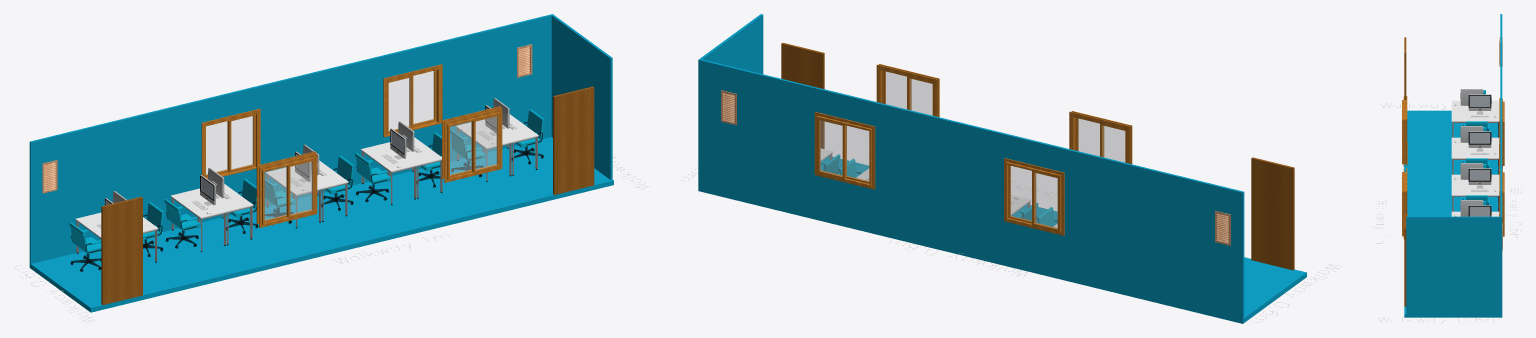
The model's file is Office Container-12m or 40ft__rvt2019.gltf.
3 views of the same model, side by side, from view 1: azimuth 30°, elevation 25°; view 2: azimuth 150°, elevation 25°; view 3: azimuth 270°, elevation 25° (orthographic). The views are drawn at different scales.
Parts seen in each view (by area): view 1: 3ebea0bb-71f9-428b-8b73-015f9e5ceb03-00050d73, 3ebea0bb-71f9-428b-8b73-015f9e5ceb03-00050d2e, 3ebea0bb-71f9-428b-8b73-015f9e5ceb03-00050d76, 3ebea0bb-71f9-428b-8b73-015f9e5ceb03-00050f47, 3ebea0bb-71f9-428b-8b73-015f9e5ceb03-00050fc4, d748e838-c180-4e02-87f8-7f9cc24b48be-000533b7, d748e838-c180-4e02-87f8-7f9cc24b48be-00053485, 2bfc31ae-6ea8-4cbf-be7d-069f3e7bb8f0-00053515, 2bfc31ae-6ea8-4cbf-be7d-069f3e7bb8f0-000534e4, 44825451-002c-4b62-90c6-554bad17569d-00056eb8, 44825451-002c-4b62-90c6-554bad17569d-00056e90, 44825451-002c-4b62-90c6-554bad17569d-00056eb2 (+18 smaller); view 2: 3ebea0bb-71f9-428b-8b73-015f9e5ceb03-00050d73, 3ebea0bb-71f9-428b-8b73-015f9e5ceb03-00050d2e, 3ebea0bb-71f9-428b-8b73-015f9e5ceb03-00050f47, 2bfc31ae-6ea8-4cbf-be7d-069f3e7bb8f0-00053515, 2bfc31ae-6ea8-4cbf-be7d-069f3e7bb8f0-000534e4, d748e838-c180-4e02-87f8-7f9cc24b48be-000533b7, d748e838-c180-4e02-87f8-7f9cc24b48be-00053485, 3ebea0bb-71f9-428b-8b73-015f9e5ceb03-00050d76, 3ebea0bb-71f9-428b-8b73-015f9e5ceb03-00050fc4, 2bfc31ae-6ea8-4cbf-be7d-069f3e7bb8f0-00053958, 2bfc31ae-6ea8-4cbf-be7d-069f3e7bb8f0-000539d7; view 3: 3ebea0bb-71f9-428b-8b73-015f9e5ceb03-00050d76, 3ebea0bb-71f9-428b-8b73-015f9e5ceb03-00050d2e, 44825451-002c-4b62-90c6-554bad17569d-00053a89, 44825451-002c-4b62-90c6-554bad17569d-00056eb0, 44825451-002c-4b62-90c6-554bad17569d-00056e8e, 3ebea0bb-71f9-428b-8b73-015f9e5ceb03-00050d73, 44825451-002c-4b62-90c6-554bad17569d-0005538b, 44825451-002c-4b62-90c6-554bad17569d-00056eb2, 44825451-002c-4b62-90c6-554bad17569d-00056e90, d748e838-c180-4e02-87f8-7f9cc24b48be-000533b7, d748e838-c180-4e02-87f8-7f9cc24b48be-00053485, 44825451-002c-4b62-90c6-554bad17569d-00056eb8 (+8 smaller).
Boxes of the visible parts, box(x1,y1,x2,y2) form: 3ebea0bb-71f9-428b-8b73-015f9e5ceb03-00050d73: box(29, 14, 551, 263); 3ebea0bb-71f9-428b-8b73-015f9e5ceb03-00050d2e: box(29, 137, 613, 312); 3ebea0bb-71f9-428b-8b73-015f9e5ceb03-00050d76: box(551, 14, 612, 179); 3ebea0bb-71f9-428b-8b73-015f9e5ceb03-00050f47: box(101, 196, 142, 304); 3ebea0bb-71f9-428b-8b73-015f9e5ceb03-00050fc4: box(553, 86, 594, 194); d748e838-c180-4e02-87f8-7f9cc24b48be-000533b7: box(256, 151, 317, 227); d748e838-c180-4e02-87f8-7f9cc24b48be-00053485: box(441, 106, 502, 182); 2bfc31ae-6ea8-4cbf-be7d-069f3e7bb8f0-00053515: box(383, 64, 442, 137); 2bfc31ae-6ea8-4cbf-be7d-069f3e7bb8f0-000534e4: box(201, 108, 260, 178); 44825451-002c-4b62-90c6-554bad17569d-00056eb8: box(360, 128, 417, 205); 44825451-002c-4b62-90c6-554bad17569d-00056e90: box(170, 175, 227, 251); 44825451-002c-4b62-90c6-554bad17569d-00056eb2: box(266, 151, 322, 228); 3ebea0bb-71f9-428b-8b73-015f9e5ceb03-00050d73: box(700, 59, 1244, 318); 3ebea0bb-71f9-428b-8b73-015f9e5ceb03-00050d2e: box(698, 156, 1306, 323); 3ebea0bb-71f9-428b-8b73-015f9e5ceb03-00050f47: box(1251, 157, 1294, 270); 2bfc31ae-6ea8-4cbf-be7d-069f3e7bb8f0-00053515: box(814, 112, 875, 189); 2bfc31ae-6ea8-4cbf-be7d-069f3e7bb8f0-000534e4: box(1004, 158, 1064, 235); d748e838-c180-4e02-87f8-7f9cc24b48be-000533b7: box(1069, 111, 1132, 164); d748e838-c180-4e02-87f8-7f9cc24b48be-00053485: box(876, 64, 939, 117); 3ebea0bb-71f9-428b-8b73-015f9e5ceb03-00050d76: box(698, 14, 763, 186); 3ebea0bb-71f9-428b-8b73-015f9e5ceb03-00050fc4: box(781, 43, 824, 148); 2bfc31ae-6ea8-4cbf-be7d-069f3e7bb8f0-00053958: box(1215, 211, 1230, 245); 2bfc31ae-6ea8-4cbf-be7d-069f3e7bb8f0-000539d7: box(721, 90, 736, 125); 3ebea0bb-71f9-428b-8b73-015f9e5ceb03-00050d76: box(1406, 216, 1502, 314); 3ebea0bb-71f9-428b-8b73-015f9e5ceb03-00050d2e: box(1404, 110, 1502, 317); 44825451-002c-4b62-90c6-554bad17569d-00053a89: box(1451, 94, 1499, 137); 44825451-002c-4b62-90c6-554bad17569d-00056eb0: box(1451, 168, 1499, 211); 44825451-002c-4b62-90c6-554bad17569d-00056e8e: box(1451, 131, 1499, 174); 3ebea0bb-71f9-428b-8b73-015f9e5ceb03-00050d73: box(1500, 14, 1502, 216); 44825451-002c-4b62-90c6-554bad17569d-0005538b: box(1451, 89, 1499, 134); 44825451-002c-4b62-90c6-554bad17569d-00056eb2: box(1451, 163, 1499, 208); 44825451-002c-4b62-90c6-554bad17569d-00056e90: box(1451, 126, 1499, 171); d748e838-c180-4e02-87f8-7f9cc24b48be-000533b7: box(1402, 96, 1407, 166); d748e838-c180-4e02-87f8-7f9cc24b48be-00053485: box(1402, 168, 1407, 238); 44825451-002c-4b62-90c6-554bad17569d-00056eb8: box(1451, 200, 1499, 216).
Size of the model in its own units: 12.98 by 2.75 by 3.72.
Materials: 18 (4 with a texture image).
